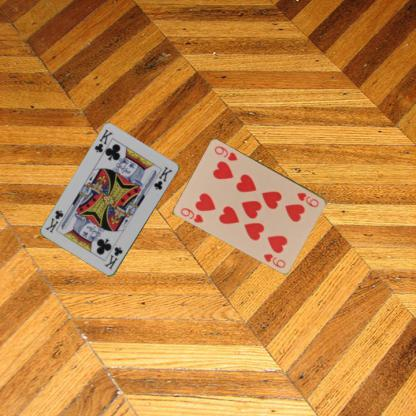9h: (178, 205, 205, 224), (295, 190, 320, 209)
Kc: (102, 244, 124, 271), (92, 127, 114, 154)
